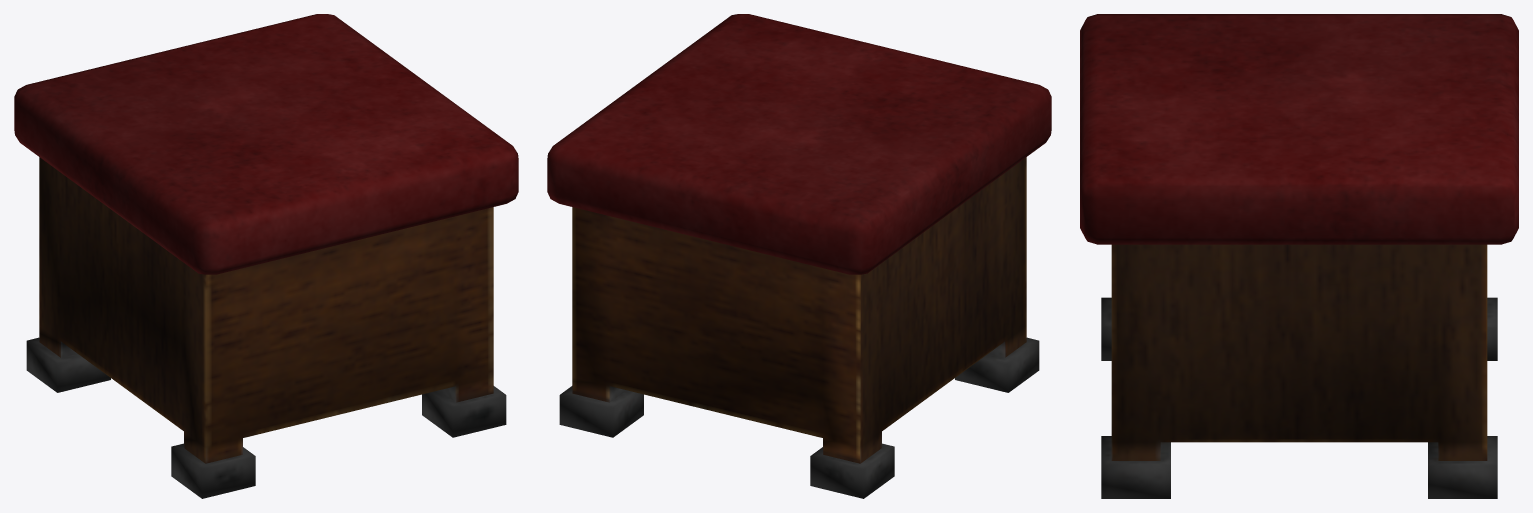
File: Bench_Short_1.fbx
3 renders of one model, left to right at view 1: azimuth 30°, elevation 25°; view 2: azimuth 150°, elevation 25°; view 3: azimuth 270°, elevation 25°, orthographic. The views are drawn at different scales.
Visible parts, largest first — view 1: R_BenchT2_1; view 2: R_BenchT2_1; view 3: R_BenchT2_1.
Boxes of the visible parts, left/top/right/bottom form: R_BenchT2_1: left=14, top=14, right=518, bottom=498; R_BenchT2_1: left=547, top=14, right=1051, bottom=498; R_BenchT2_1: left=1080, top=14, right=1518, bottom=498.
Bounding box in the file's own units: 57.63 × 47.96 × 59.84.
Materials: 1 (1 with a texture image).
